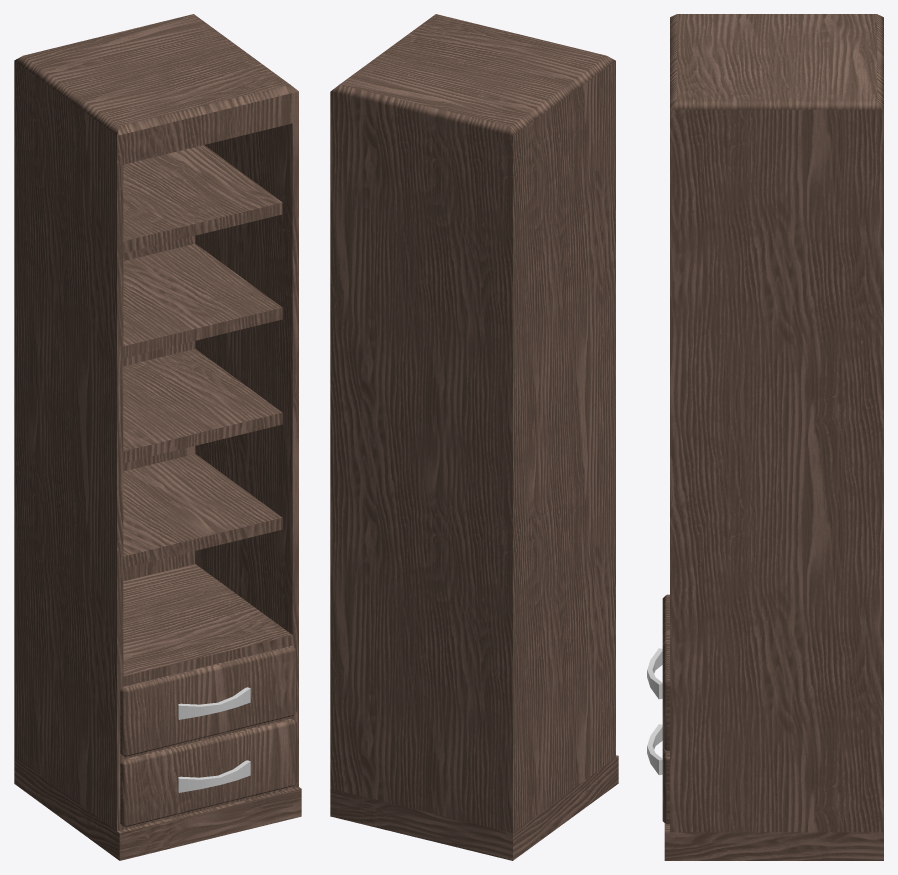
File: cupboard_005.fbx
3 renders of one model, left to right at view 1: azimuth 30°, elevation 25°; view 2: azimuth 150°, elevation 25°; view 3: azimuth 270°, elevation 25°, orthographic. The views are drawn at different scales.
Parts seen in each view (by area): view 1: cupboard_005; view 2: cupboard_005; view 3: cupboard_005.
Part boxes in pixels (x1,y1,x2,y2): cupboard_005: (14,14,301,860); cupboard_005: (330,14,618,860); cupboard_005: (647,14,883,860).
Bounding box in the file's own units: 73.22 × 79.37 × 280.
